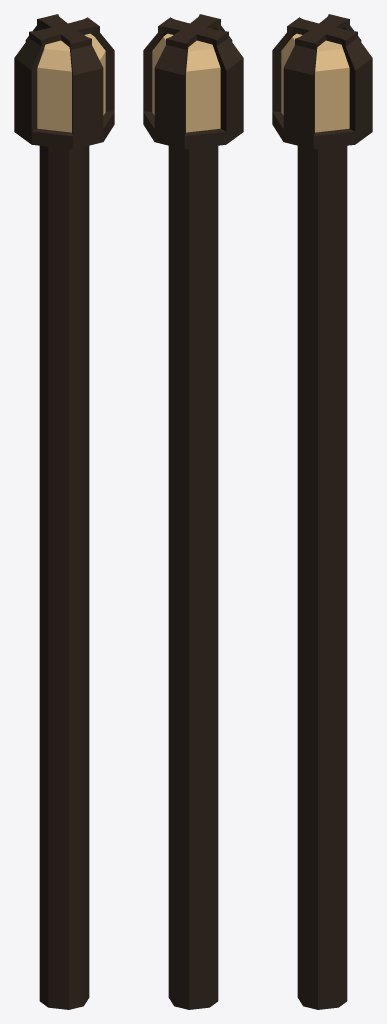
Rendered from LightPollA.fbx.
The picture shows the model from 3 angles, left to right: view 1: azimuth 30°, elevation 25°; view 2: azimuth 150°, elevation 25°; view 3: azimuth 330°, elevation 25°; orthographic projection.
Parts seen in each view (by area): view 1: Light2; view 2: Light2; view 3: Light2.
Boxes of the visible parts, <box> form: Light2: <box>14,14,114,1009</box>; Light2: <box>143,14,243,1009</box>; Light2: <box>272,14,372,1009</box>.
Bounding box in the file's own units: 299 × 3341 × 299.
